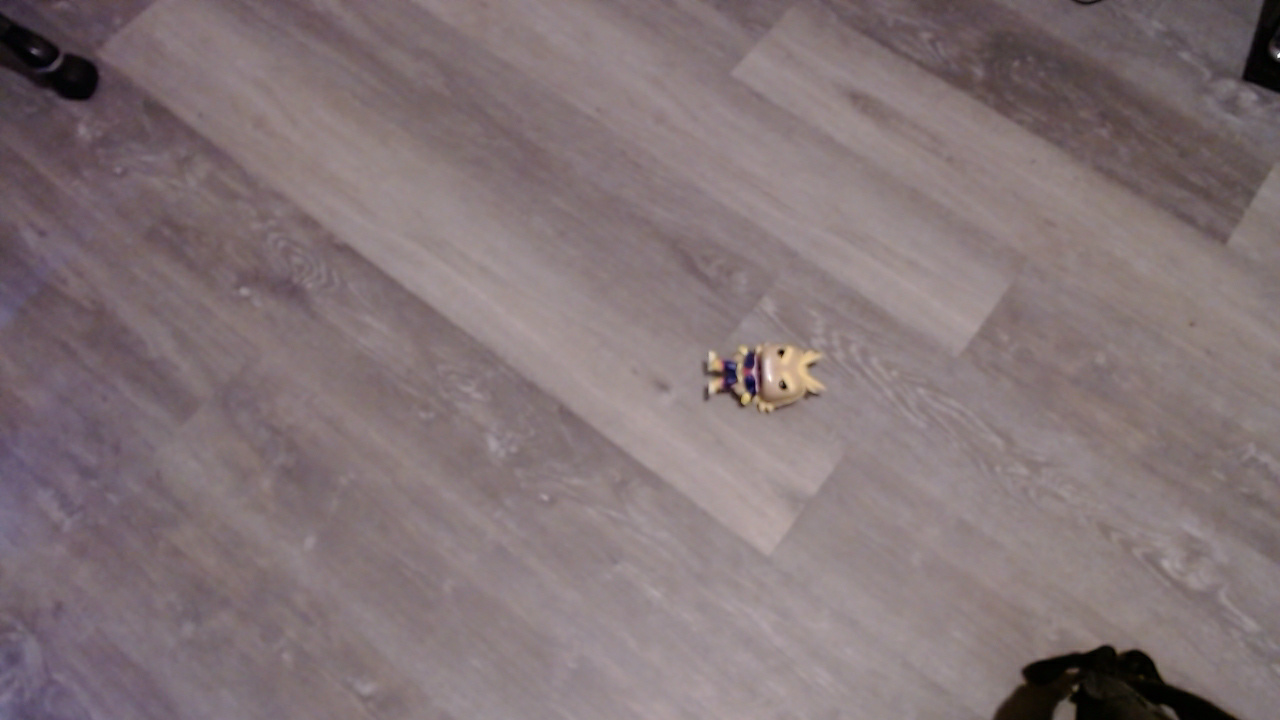all_might: (705, 341, 838, 427)
